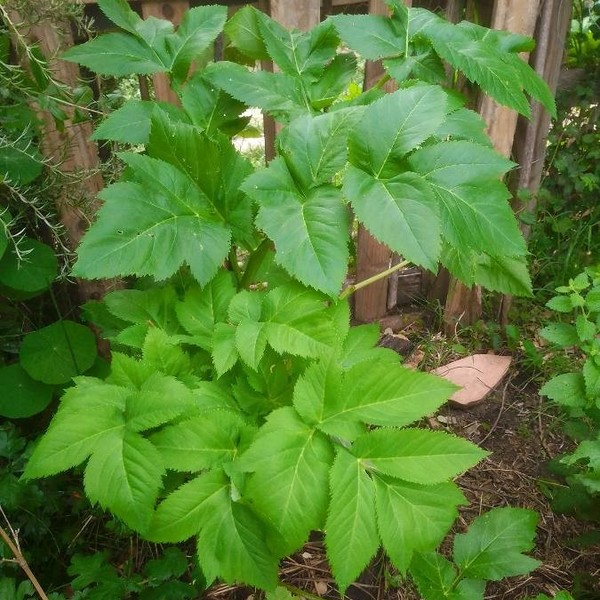obstacle: (91, 36, 491, 562)
